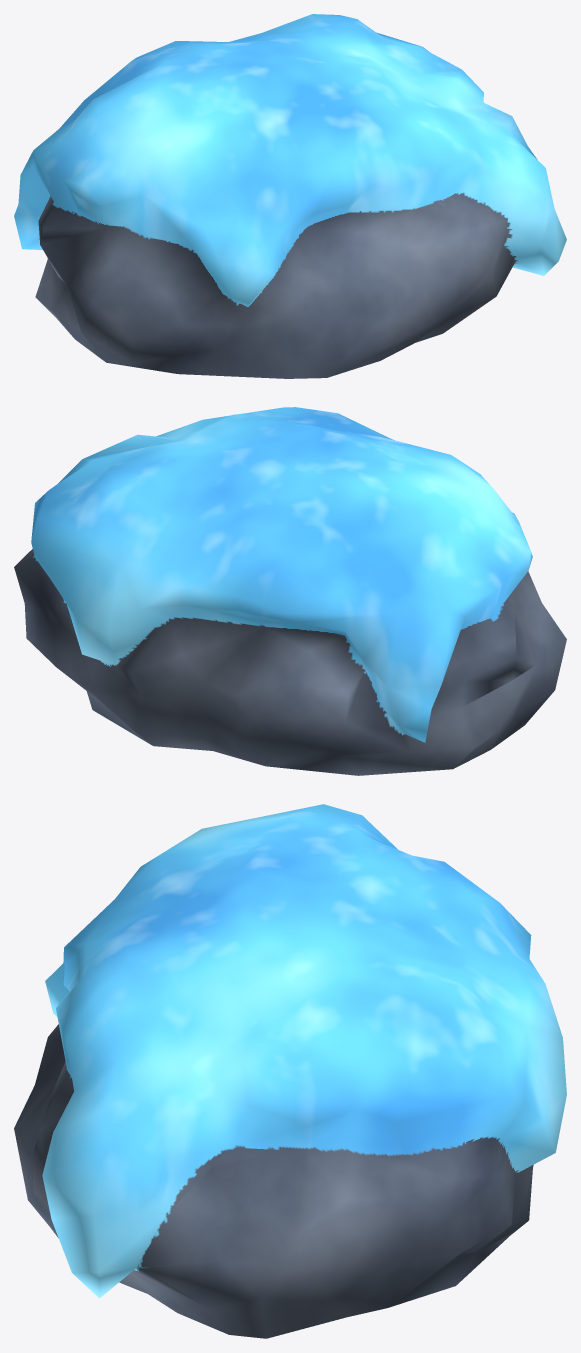
File: SM_Rock_Ice_2.glb
The picture shows the model from 3 angles, top to bottom: view 1: azimuth 30°, elevation 25°; view 2: azimuth 150°, elevation 25°; view 3: azimuth 270°, elevation 25°; orthographic projection. The views are drawn at different scales.
Parts seen in each view (by area): view 1: SM_Rock_Ice_2; view 2: SM_Rock_Ice_2; view 3: SM_Rock_Ice_2.
Part boxes in pixels (<box>): SM_Rock_Ice_2: <box>14,14,566,378</box>; SM_Rock_Ice_2: <box>14,407,566,775</box>; SM_Rock_Ice_2: <box>14,804,566,1338</box>.
Bounding box in the file's own units: 1.69 × 0.8632 × 1.33.
1 material, 1 textured.
